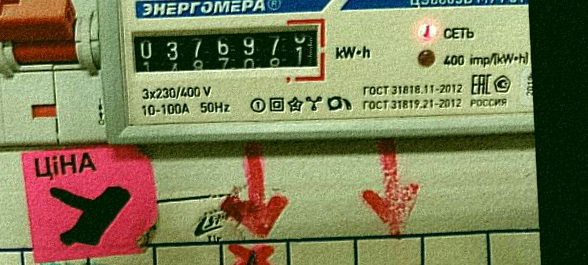0: (137, 38, 154, 59)
1: (294, 44, 306, 66)
3: (164, 38, 179, 62)
6: (216, 34, 230, 56)
7: (190, 34, 204, 59), (267, 32, 281, 56)
9: (241, 34, 255, 56)
screen: (124, 15, 331, 93)
